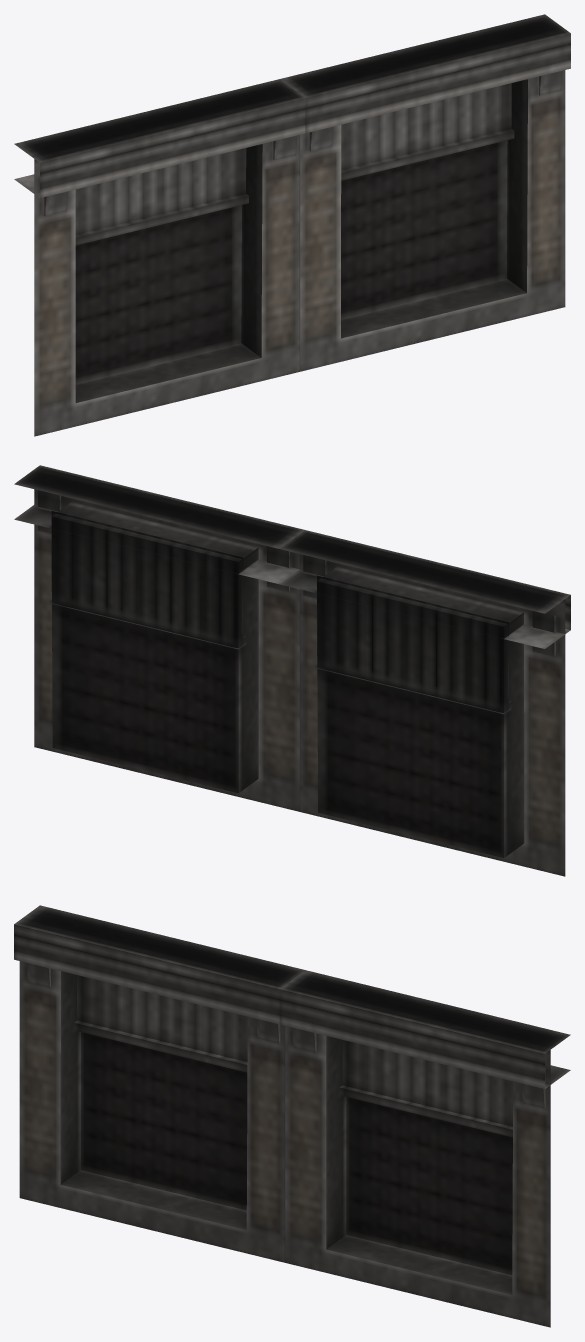
File: B1_FirstFloorStore2x.FBX
The picture shows the model from 3 angles, top to bottom: view 1: azimuth 30°, elevation 25°; view 2: azimuth 150°, elevation 25°; view 3: azimuth 330°, elevation 25°; orthographic projection.
Visible parts, largest first — view 1: B1_FirstFloorStore2x; view 2: B1_FirstFloorStore2x; view 3: B1_FirstFloorStore2x.
Boxes of the visible parts, box(x1,y1,x2,y2) form: B1_FirstFloorStore2x: box(14, 14, 570, 436); B1_FirstFloorStore2x: box(14, 465, 570, 876); B1_FirstFloorStore2x: box(14, 905, 570, 1327).
Size of the model in its own units: 8 by 4 by 0.6952.
